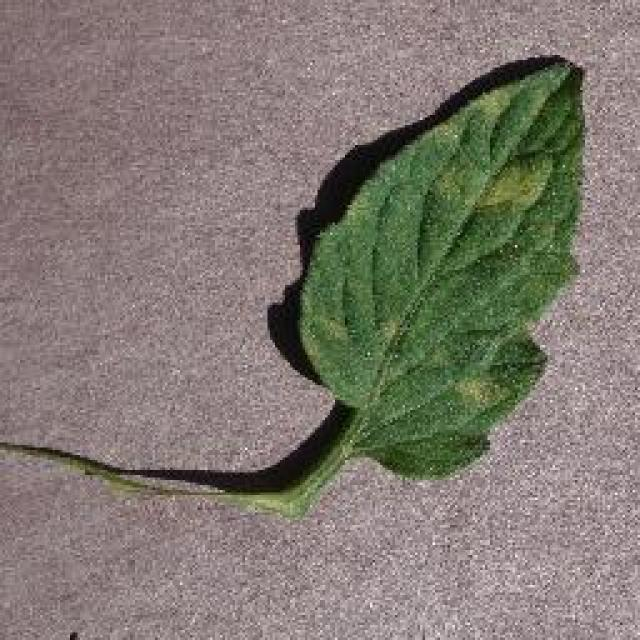Tomato mold leaf: (300, 58, 592, 477)
